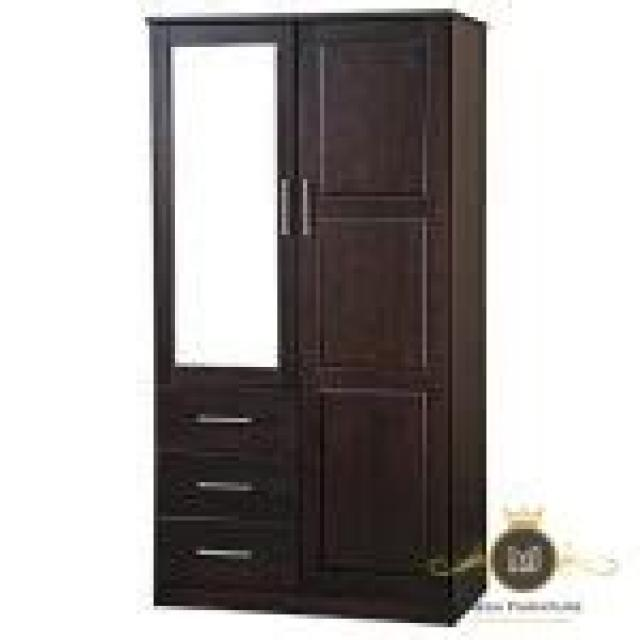Closet: (146, 18, 494, 614)
